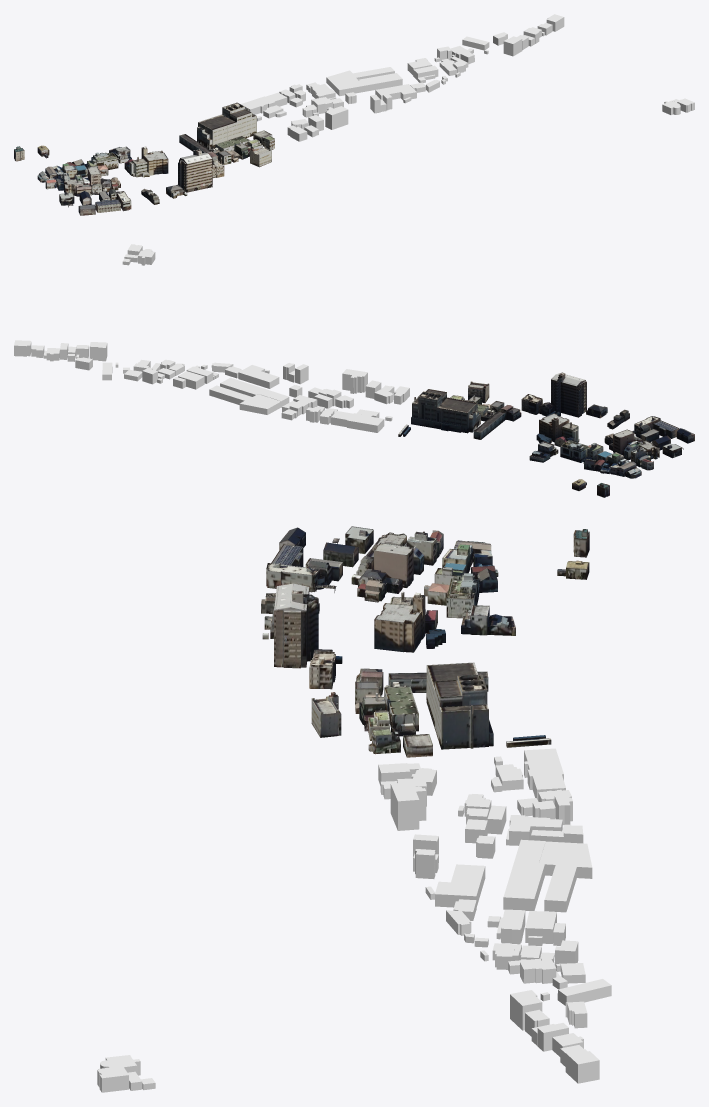
Rendered from 2023-lod3-station-6-3-packed.glb.
The picture shows the model from 3 angles, top to bottom: view 1: azimuth 30°, elevation 25°; view 2: azimuth 150°, elevation 25°; view 3: azimuth 270°, elevation 25°; orthographic projection. The views are drawn at different scales.
Bounding box in the file's own units: 608 × 35.83 × 237.
3 materials, 2 textured.
